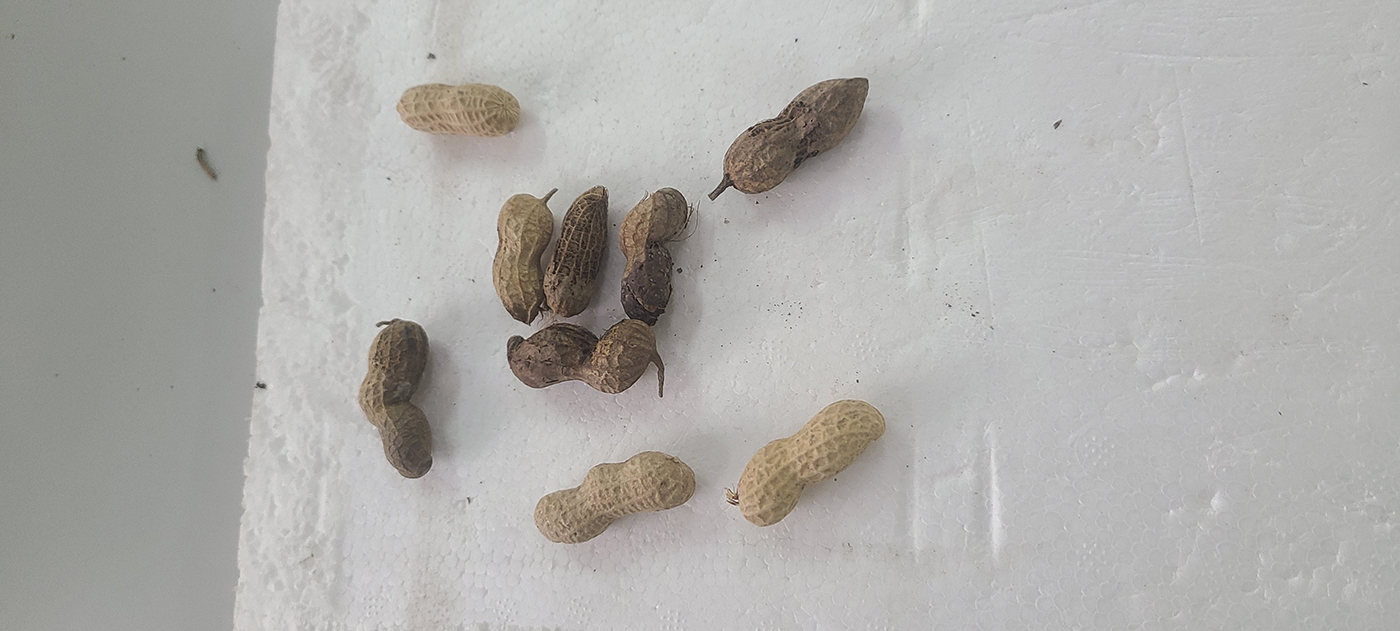h: (734, 400, 886, 527), (533, 450, 695, 544), (397, 83, 521, 137)
l: (720, 77, 869, 193), (358, 320, 434, 479), (506, 320, 654, 394), (619, 188, 687, 325), (543, 186, 610, 317), (492, 193, 553, 325)
